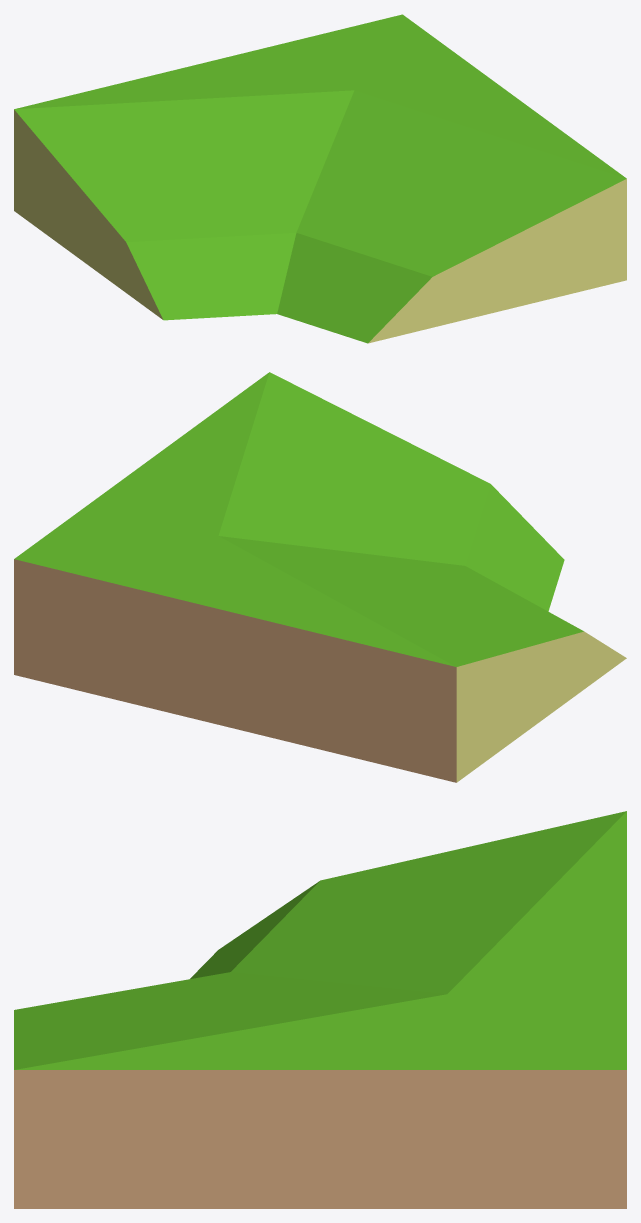
File: Grass_Carpet_Curve_Inner_1x1.glb
3 renders of one model, top to bottom at view 1: azimuth 30°, elevation 25°; view 2: azimuth 150°, elevation 25°; view 3: azimuth 270°, elevation 25°, orthographic. The views are drawn at different scales.
Visible parts, largest first — view 1: Grass_Carpet_Curve_Inner_1x1; view 2: Grass_Carpet_Curve_Inner_1x1; view 3: Grass_Carpet_Curve_Inner_1x1.
Part boxes in pixels (x1,y1,x2,y2): Grass_Carpet_Curve_Inner_1x1: (14,14,626,343); Grass_Carpet_Curve_Inner_1x1: (14,372,626,782); Grass_Carpet_Curve_Inner_1x1: (14,811,626,1208).
Bounding box in the file's own units: 100 × 25 × 100.
